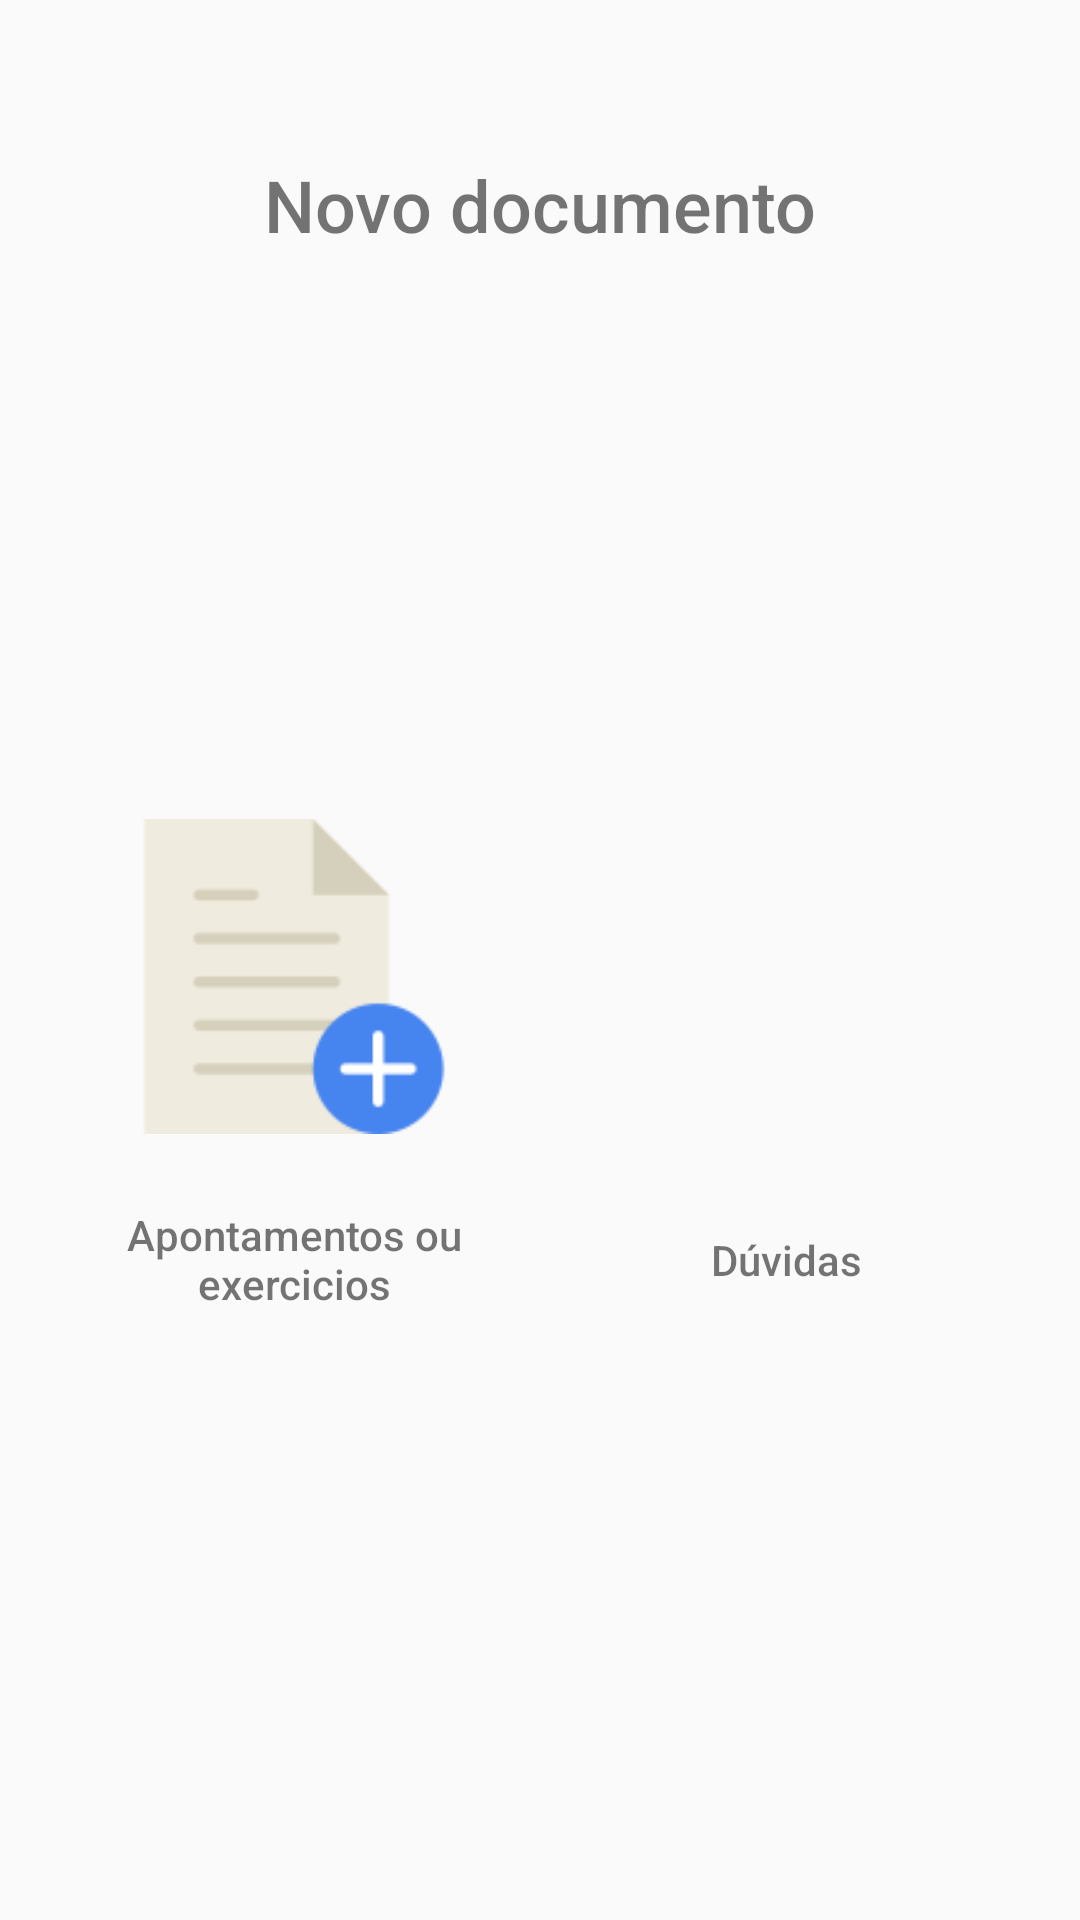

Where to tap for icons on this 1080 × 1920 app screen, as (x=x, y=y):
fileadd: (x=295, y=976)
